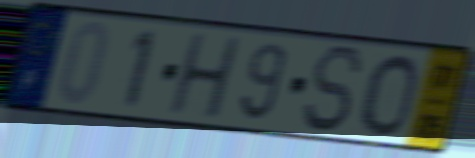0: (55, 19, 115, 109)
1: (126, 29, 159, 111)
9: (238, 41, 288, 123)
H: (165, 31, 244, 122)
O: (357, 51, 420, 139)
S: (300, 43, 366, 136)
